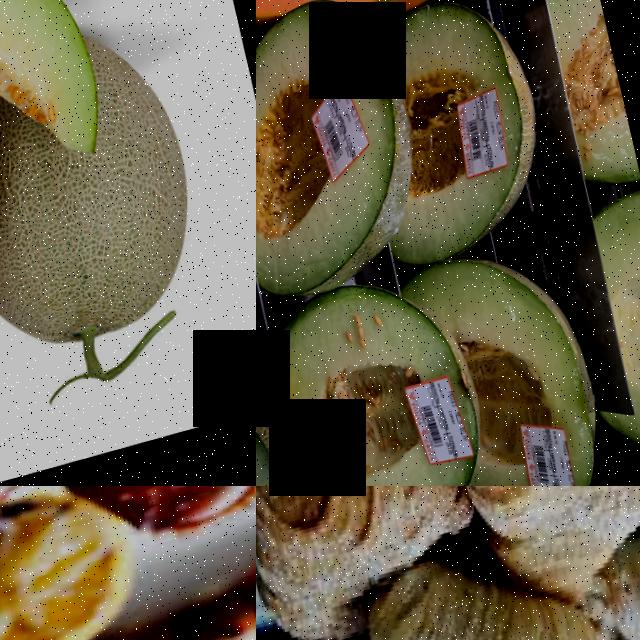lobster tails: (0, 486, 256, 567)
melon: (372, 40, 637, 305), (0, 106, 233, 388), (422, 247, 640, 470), (256, 103, 428, 363), (256, 304, 465, 486), (350, 0, 609, 96), (256, 0, 372, 142), (0, 0, 99, 161)
